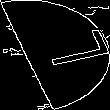L_W: (12, 32, 98, 78)
